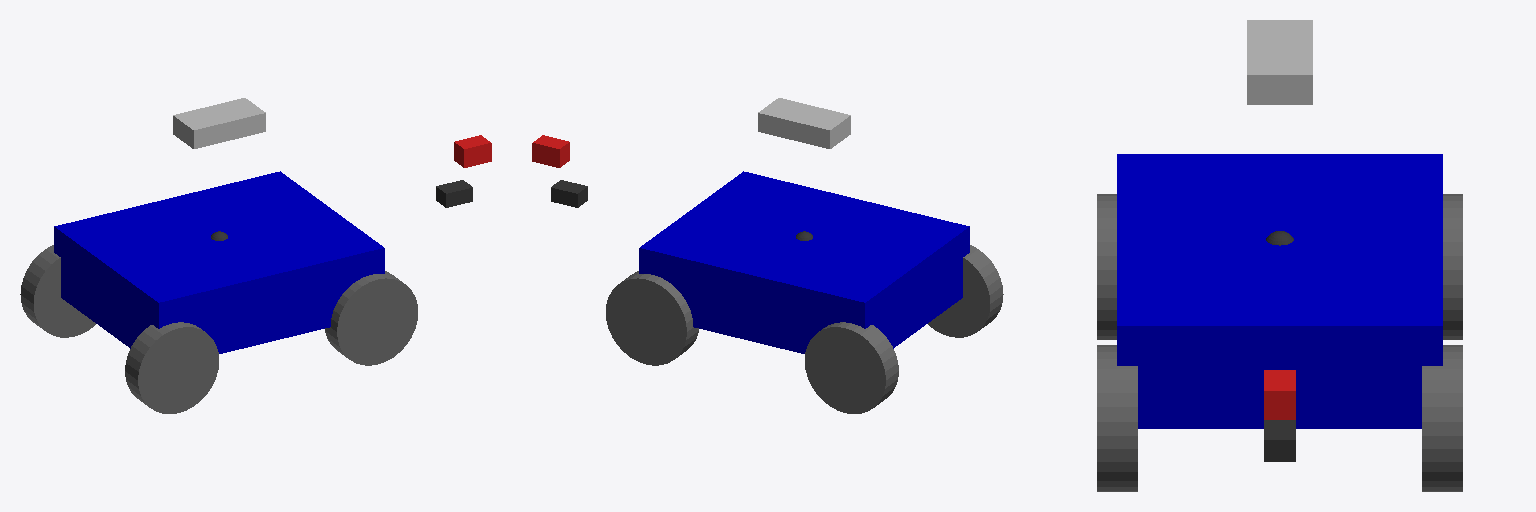
URDF robot description (lunabot_realistic):
<?xml version="1.0"?>
<robot name="lunabot_realistic">

  <!-- Materials -->
  <material name="blue"><color rgba="0 0 0.8 1"/></material>
  <material name="wheel_gray"><color rgba="0.45 0.45 0.45 1"/></material>
  <material name="sensor_gray"><color rgba="0.75 0.75 0.75 1"/></material>
  <material name="camera_red"><color rgba="0.85 0.15 0.15 1"/></material>
  <material name="dark_gray"><color rgba="0.25 0.25 0.25 1"/></material>

  <!-- ================= BASE (body) ================= -->
  <link name="base_link">
    <visual>
      <origin xyz="0 0 0" rpy="0 0 0"/>
      <geometry>
        <!-- length x width x height -->
        <box size="0.50 0.40 0.14"/>
      </geometry>
      <material name="blue"/>
    </visual>
    <collision>
      <origin xyz="0 0 0" rpy="0 0 0"/>
      <geometry>
        <box size="0.50 0.40 0.14"/>
      </geometry>
    </collision>
    <inertial>
      <origin xyz="0 0 0" rpy="0 0 0"/>
      <mass value="12.0"/>
      <inertia ixx="0.12" ixy="0.0" ixz="0.0"
               iyy="0.12" iyz="0.0"
               izz="0.12"/>
    </inertial>
  </link>

  <!-- ================= WHEELS (4 simple) ================= -->
  <!-- wheels are cylinders rotated so axis is Y (spin axis) -->

  <!-- FRONT LEFT -->
  <link name="wheel_FL">
    <visual>
      <origin xyz="0 0 0" rpy="1.5708 0 0"/>
      <geometry><cylinder radius="0.09" length="0.05"/></geometry>
      <material name="wheel_gray"/>
    </visual>
    <collision>
      <origin xyz="0 0 0" rpy="1.5708 0 0"/>
      <geometry><cylinder radius="0.09" length="0.05"/></geometry>
    </collision>
    <inertial>
      <origin xyz="0 0 0" rpy="0 0 0"/>
      <mass value="0.7"/>
      <inertia ixx="0.001" ixy="0" ixz="0"
               iyy="0.001" iyz="0"
               izz="0.001"/>
    </inertial>
  </link>
  <joint name="joint_wheel_FL" type="continuous">
    <parent link="base_link"/>
    <child link="wheel_FL"/>
    <origin xyz="0.22 0.20 -0.07" rpy="0 0 0"/>
    <axis xyz="0 1 0"/>
  </joint>

  <!-- FRONT RIGHT -->
  <link name="wheel_FR">
    <visual>
      <origin xyz="0 0 0" rpy="1.5708 0 0"/>
      <geometry><cylinder radius="0.09" length="0.05"/></geometry>
      <material name="wheel_gray"/>
    </visual>
    <collision>
      <origin xyz="0 0 0" rpy="1.5708 0 0"/>
      <geometry><cylinder radius="0.09" length="0.05"/></geometry>
    </collision>
    <inertial>
      <mass value="0.7"/>
      <inertia ixx="0.001" ixy="0" ixz="0"
               iyy="0.001" iyz="0"
               izz="0.001"/>
    </inertial>
  </link>
  <joint name="joint_wheel_FR" type="continuous">
    <parent link="base_link"/>
    <child link="wheel_FR"/>
    <origin xyz="0.22 -0.20 -0.07" rpy="0 0 0"/>
    <axis xyz="0 1 0"/>
  </joint>

  <!-- REAR LEFT -->
  <link name="wheel_RL">
    <visual>
      <origin xyz="0 0 0" rpy="1.5708 0 0"/>
      <geometry><cylinder radius="0.09" length="0.05"/></geometry>
      <material name="wheel_gray"/>
    </visual>
    <collision>
      <origin xyz="0 0 0" rpy="1.5708 0 0"/>
      <geometry><cylinder radius="0.09" length="0.05"/></geometry>
    </collision>
    <inertial>
      <mass value="0.7"/>
      <inertia ixx="0.001" ixy="0" ixz="0"
               iyy="0.001" iyz="0"
               izz="0.001"/>
    </inertial>
  </link>
  <joint name="joint_wheel_RL" type="continuous">
    <parent link="base_link"/>
    <child link="wheel_RL"/>
    <origin xyz="-0.22 0.20 -0.07" rpy="0 0 0"/>
    <axis xyz="0 1 0"/>
  </joint>

  <!-- REAR RIGHT -->
  <link name="wheel_RR">
    <visual>
      <origin xyz="0 0 0" rpy="1.5708 0 0"/>
      <geometry><cylinder radius="0.09" length="0.05"/></geometry>
      <material name="wheel_gray"/>
    </visual>
    <collision>
      <origin xyz="0 0 0" rpy="1.5708 0 0"/>
      <geometry><cylinder radius="0.09" length="0.05"/></geometry>
    </collision>
    <inertial>
      <mass value="0.7"/>
      <inertia ixx="0.001" ixy="0" ixz="0"
               iyy="0.001" iyz="0"
               izz="0.001"/>
    </inertial>
  </link>
  <joint name="joint_wheel_RR" type="continuous">
    <parent link="base_link"/>
    <child link="wheel_RR"/>
    <origin xyz="-0.22 -0.20 -0.07" rpy="0 0 0"/>
    <axis xyz="0 1 0"/>
  </joint>

  <!-- ================= 2D LIDAR (rectangular box on top center) ================= -->
  <!-- This is a visual representation only; for simulation you will attach a 2D laser plugin later -->
  <link name="lidar_link">
    <visual>
      <origin xyz="0 0 0.155" rpy="0 0 0"/>
      <geometry><box size="0.16 0.08 0.04"/></geometry>
      <material name="sensor_gray"/>
    </visual>
    <collision>
      <origin xyz="0 0 0.155" rpy="0 0 0"/>
      <geometry><box size="0.16 0.08 0.04"/></geometry>
    </collision>
    <inertial>
      <origin xyz="0 0 0.155" rpy="0 0 0"/>
      <mass value="0.5"/>
      <inertia ixx="0.0015" ixy="0" ixz="0"
               iyy="0.0015" iyz="0"
               izz="0.0015"/>
    </inertial>
  </link>
  <joint name="joint_lidar" type="fixed">
    <parent link="base_link"/>
    <child link="lidar_link"/>
    <origin xyz="0 0 0.155" rpy="0 0 0"/>
  </joint>

  <!-- ================= FRONT RGB CAMERA ================= -->
  <link name="camera_rgb">
    <visual>
      <origin xyz="0.28 0 0.06" rpy="0 0 0"/>
      <geometry><box size="0.06 0.04 0.04"/></geometry>
      <material name="camera_red"/>
    </visual>
    <collision>
      <origin xyz="0.28 0 0.06" rpy="0 0 0"/>
      <geometry><box size="0.06 0.04 0.04"/></geometry>
    </collision>
    <inertial>
      <origin xyz="0.28 0 0.06" rpy="0 0 0"/>
      <mass value="0.12"/>
      <inertia ixx="0.0004" ixy="0" ixz="0"
               iyy="0.0004" iyz="0"
               izz="0.0004"/>
    </inertial>
  </link>
  <joint name="joint_camera_rgb" type="fixed">
    <parent link="base_link"/>
    <child link="camera_rgb"/>
    <origin xyz="0.28 0 0.06" rpy="0 0 0"/>
  </joint>

  <!-- ================= DEPTH CAMERA (under RGB, stacked) ================= -->
  <link name="camera_depth">
    <visual>
      <origin xyz="0.26 0 0.02" rpy="0 0 0"/>
      <geometry><box size="0.06 0.04 0.03"/></geometry>
      <material name="dark_gray"/>
    </visual>
    <collision>
      <origin xyz="0.26 0 0.02" rpy="0 0 0"/>
      <geometry><box size="0.06 0.04 0.03"/></geometry>
    </collision>
    <inertial>
      <origin xyz="0.26 0 0.02" rpy="0 0 0"/>
      <mass value="0.12"/>
      <inertia ixx="0.0003" ixy="0" ixz="0"
               iyy="0.0003" iyz="0"
               izz="0.0003"/>
    </inertial>
  </link>
  <joint name="joint_camera_depth" type="fixed">
    <parent link="base_link"/>
    <child link="camera_depth"/>
    <origin xyz="0.26 0 0.02" rpy="0 0 0"/>
  </joint>

  <!-- ================= IMU (small sphere, near center, mostly internal) ================= -->
  <link name="imu_link">
    <visual>
      <origin xyz="0 0 0.03" rpy="0 0 0"/>
      <geometry><sphere radius="0.02"/></geometry>
      <material name="dark_gray"/>
    </visual>
    <inertial>
      <origin xyz="0 0 0.03" rpy="0 0 0"/>
      <mass value="0.05"/>
      <inertia ixx="0.00001" ixy="0" ixz="0"
               iyy="0.00001" iyz="0"
               izz="0.00001"/>
    </inertial>
  </link>
  <joint name="joint_imu" type="fixed">
    <parent link="base_link"/>
    <child link="imu_link"/>
    <origin xyz="0 0 0.03" rpy="0 0 0"/>
  </joint>

</robot>

--- Render facts (derived) ---
3 views of the same robot in one strip: view 1: azimuth 30°, elevation 25°; view 2: azimuth 150°, elevation 25°; view 3: azimuth 270°, elevation 25° (orthographic).
Robot: lunabot_realistic — 9 links, 8 joints (4 continuous, 4 fixed); root link base_link; default pose: every joint at zero.
Visible links, largest first — view 1: base_link, wheel_RR, wheel_FR, wheel_RL, lidar_link, camera_rgb, camera_depth; view 2: base_link, wheel_RL, wheel_FL, wheel_RR, lidar_link, camera_rgb, camera_depth; view 3: base_link, lidar_link, wheel_FL, wheel_FR, wheel_RL, wheel_RR, camera_rgb, camera_depth.
Link boxes in pixels (x1,y1,x2,y2): base_link: (54, 171, 384, 353); wheel_RR: (125, 322, 218, 413); wheel_FR: (325, 271, 417, 365); wheel_RL: (20, 245, 95, 337); lidar_link: (173, 98, 265, 148); camera_rgb: (454, 135, 491, 167); camera_depth: (436, 180, 472, 207); base_link: (639, 171, 969, 353); wheel_RL: (805, 322, 898, 413); wheel_FL: (606, 271, 698, 365); wheel_RR: (928, 245, 1003, 337); lidar_link: (758, 98, 850, 148); camera_rgb: (532, 135, 569, 167); camera_depth: (551, 180, 587, 207); base_link: (1117, 154, 1442, 428); lidar_link: (1247, 20, 1312, 104); wheel_FL: (1422, 345, 1462, 491); wheel_FR: (1097, 345, 1137, 491); wheel_RL: (1443, 194, 1462, 339); wheel_RR: (1097, 194, 1116, 339); camera_rgb: (1264, 370, 1295, 419); camera_depth: (1264, 420, 1295, 461).
Bounding box of the posed robot: 0.9 × 0.45 × 0.49 m (x, y, z).
Geometry: primitives only (box / cylinder / sphere), no mesh files.
